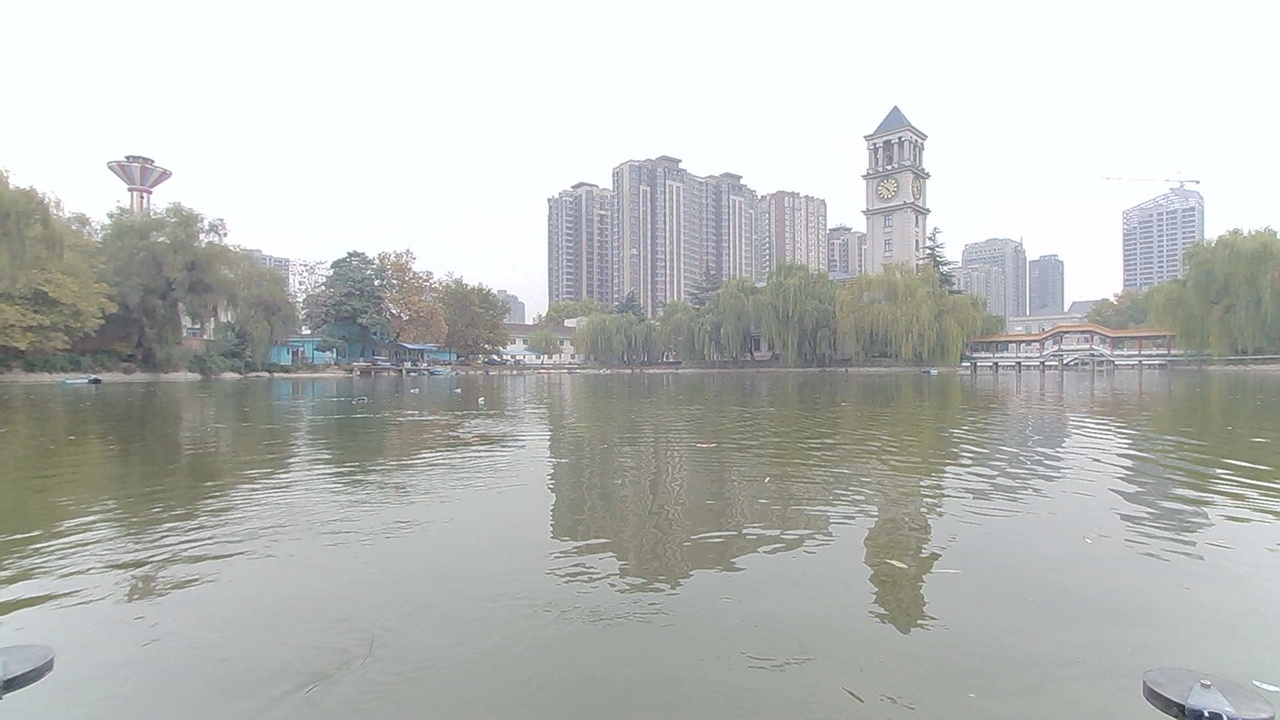bottle: (341, 384, 377, 414), (469, 382, 502, 410), (437, 378, 473, 402), (401, 379, 430, 404)
